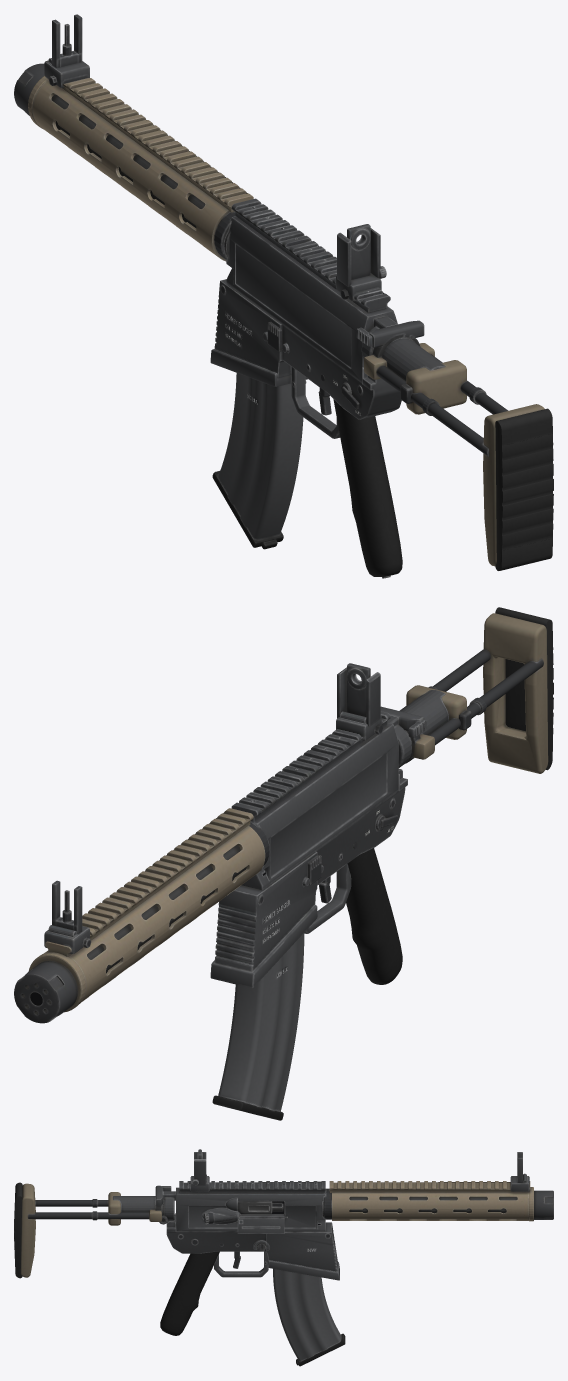
File: badger_built.glb
The picture shows the model from 3 angles, top to bottom: view 1: azimuth 30°, elevation 25°; view 2: azimuth 150°, elevation 25°; view 3: azimuth 270°, elevation 25°; orthographic projection. The views are drawn at different scales.
Parts seen in each view (by area): view 1: Body, Magazine, Sights; view 2: Body, Magazine, Sights; view 3: Body, Magazine, Sights.
Boxes of the visible parts, x1=… form: Body: x1=14, y1=58, x2=553, y2=578; Magazine: x1=212, y1=373, x2=303, y2=549; Sights: x1=52, y1=14, x2=386, y2=286; Body: x1=14, y1=607, x2=553, y2=1023; Magazine: x1=212, y1=933, x2=304, y2=1120; Sights: x1=52, y1=663, x2=380, y2=934; Body: x1=14, y1=1173, x2=553, y2=1335; Magazine: x1=273, y1=1268, x2=345, y2=1366; Sights: x1=192, y1=1149, x2=522, y2=1185.
Bounding box in the file's own units: 0.0522 × 0.2971 × 0.686.
Materials: 1 (1 with a texture image).
